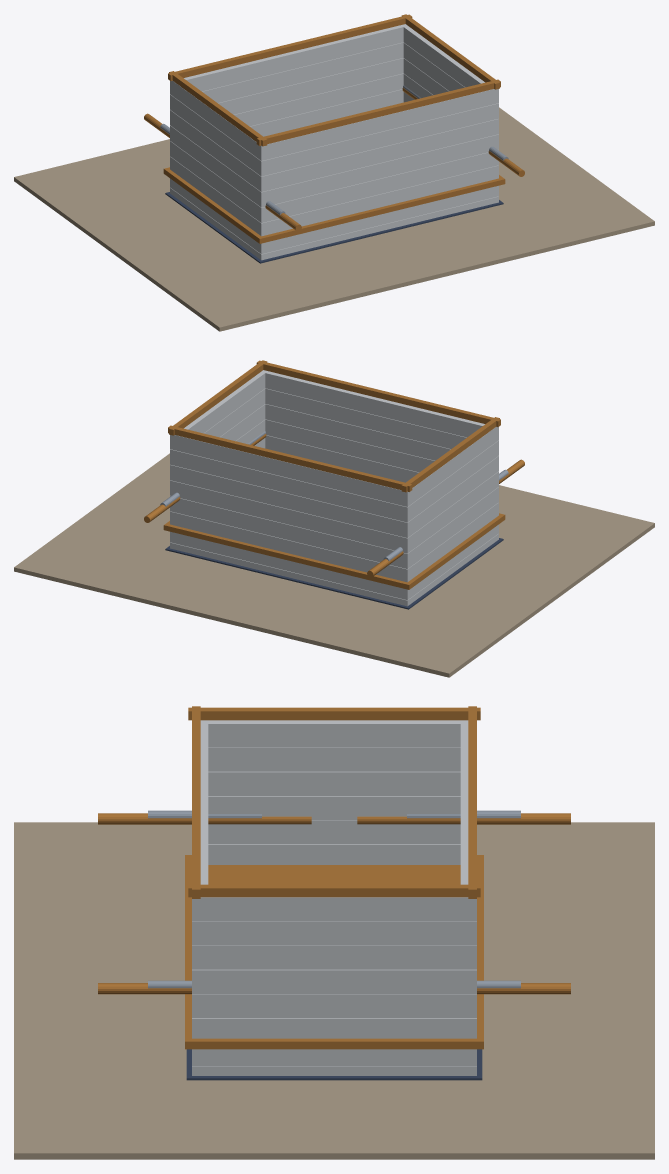
File: stage_07_openings.glb
3 views of the same model, one above another, from view 1: azimuth 30°, elevation 25°; view 2: azimuth 150°, elevation 25°; view 3: azimuth 270°, elevation 25° (orthographic). The views are drawn at different scales.
Visible parts, largest first — view 1: world; view 2: world; view 3: world.
Boxes of the visible parts, left/top/right/bottom form: world: left=14, top=14, right=654, bottom=331; world: left=14, top=360, right=654, bottom=677; world: left=14, top=706, right=654, bottom=1159.
Bounding box in the file's own units: 11 × 3.14 × 9.
